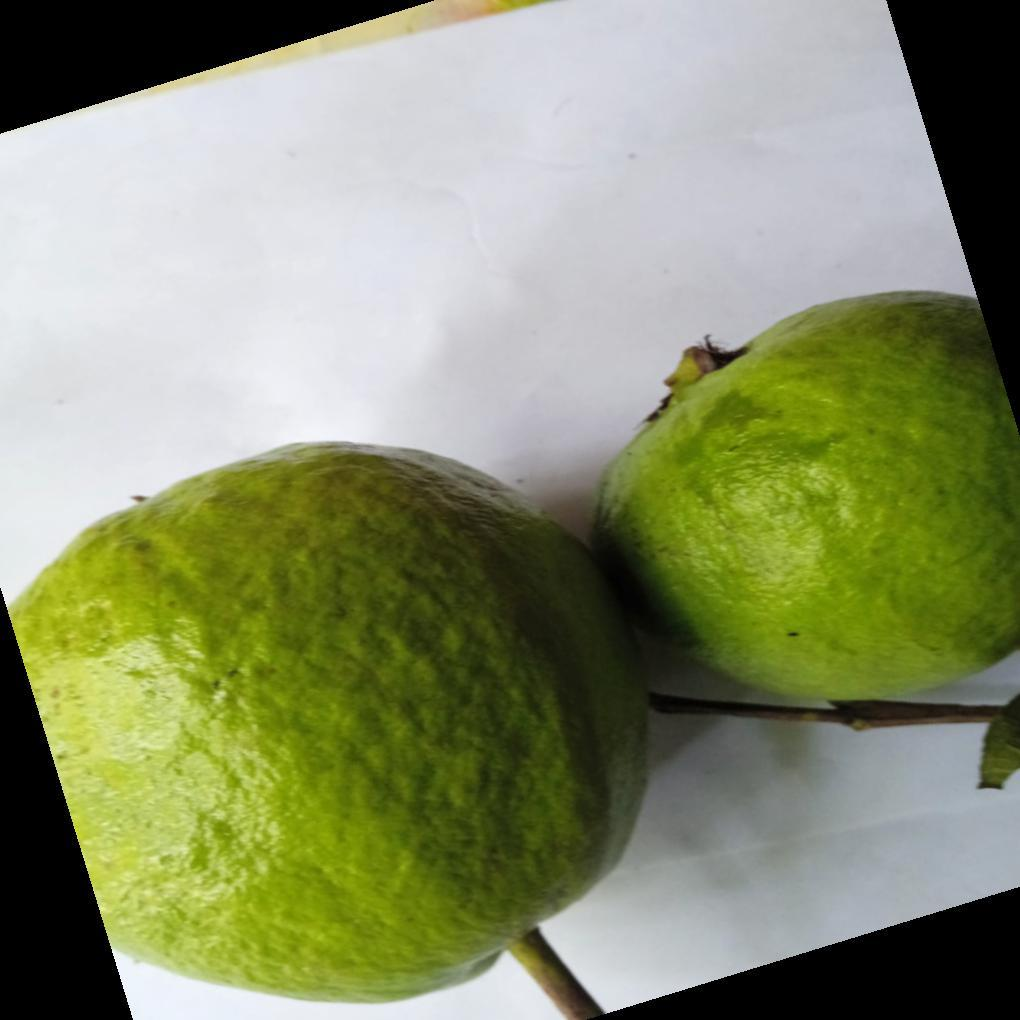FreshGuava: (7, 291, 1020, 1008)
